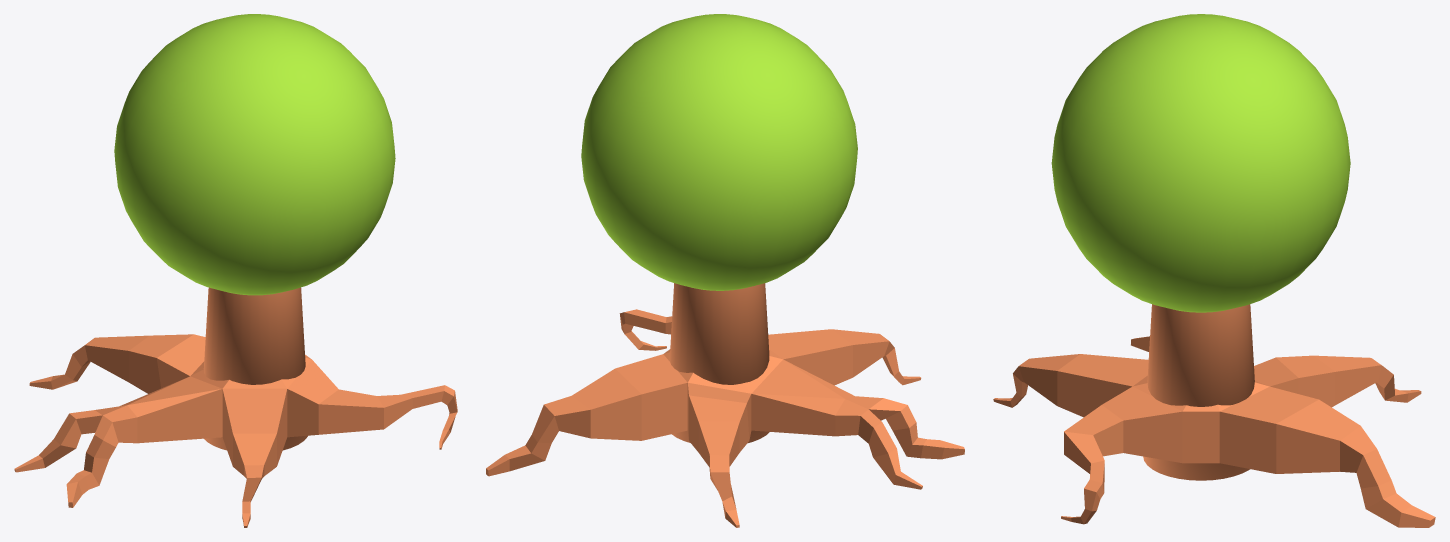
The model's file is Tree.fbx.
The picture shows the model from 3 angles, left to right: view 1: azimuth 30°, elevation 25°; view 2: azimuth 150°, elevation 25°; view 3: azimuth 270°, elevation 25°; orthographic projection. The views are drawn at different scales.
Parts seen in each view (by area): view 1: Tree; view 2: Tree; view 3: Tree.
Part boxes in pixels (bbox=[...]): Tree: bbox=[14, 14, 457, 527]; Tree: bbox=[486, 14, 964, 527]; Tree: bbox=[993, 14, 1435, 527].
Size of the model in its own units: 230 by 241 by 222.
